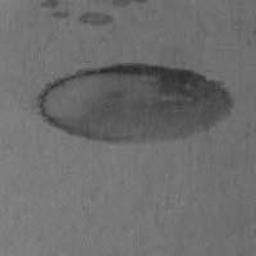Oil spot: (33, 60, 238, 146), (38, 0, 116, 27), (92, 0, 152, 8)
